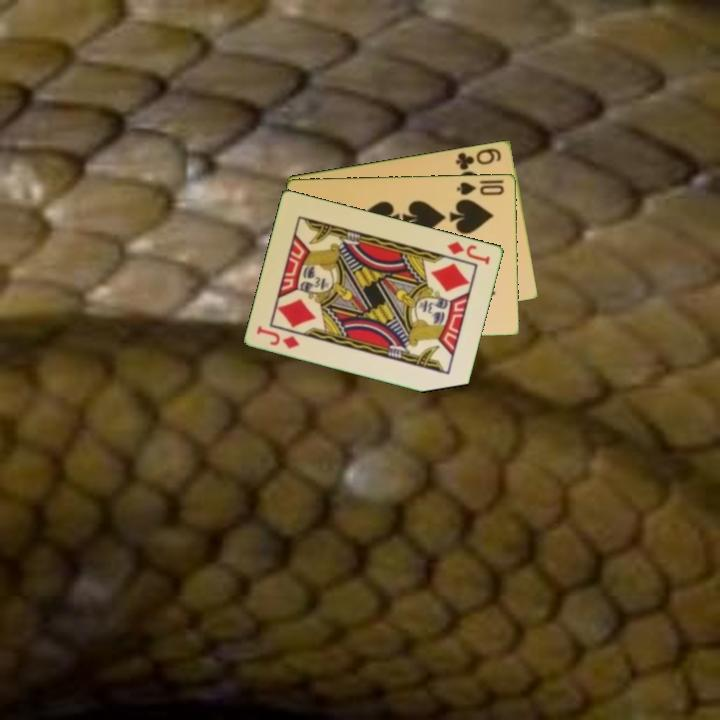10s: (454, 178, 507, 198)
6c: (452, 144, 504, 173)
Jd: (443, 238, 493, 267), (253, 322, 303, 351)
